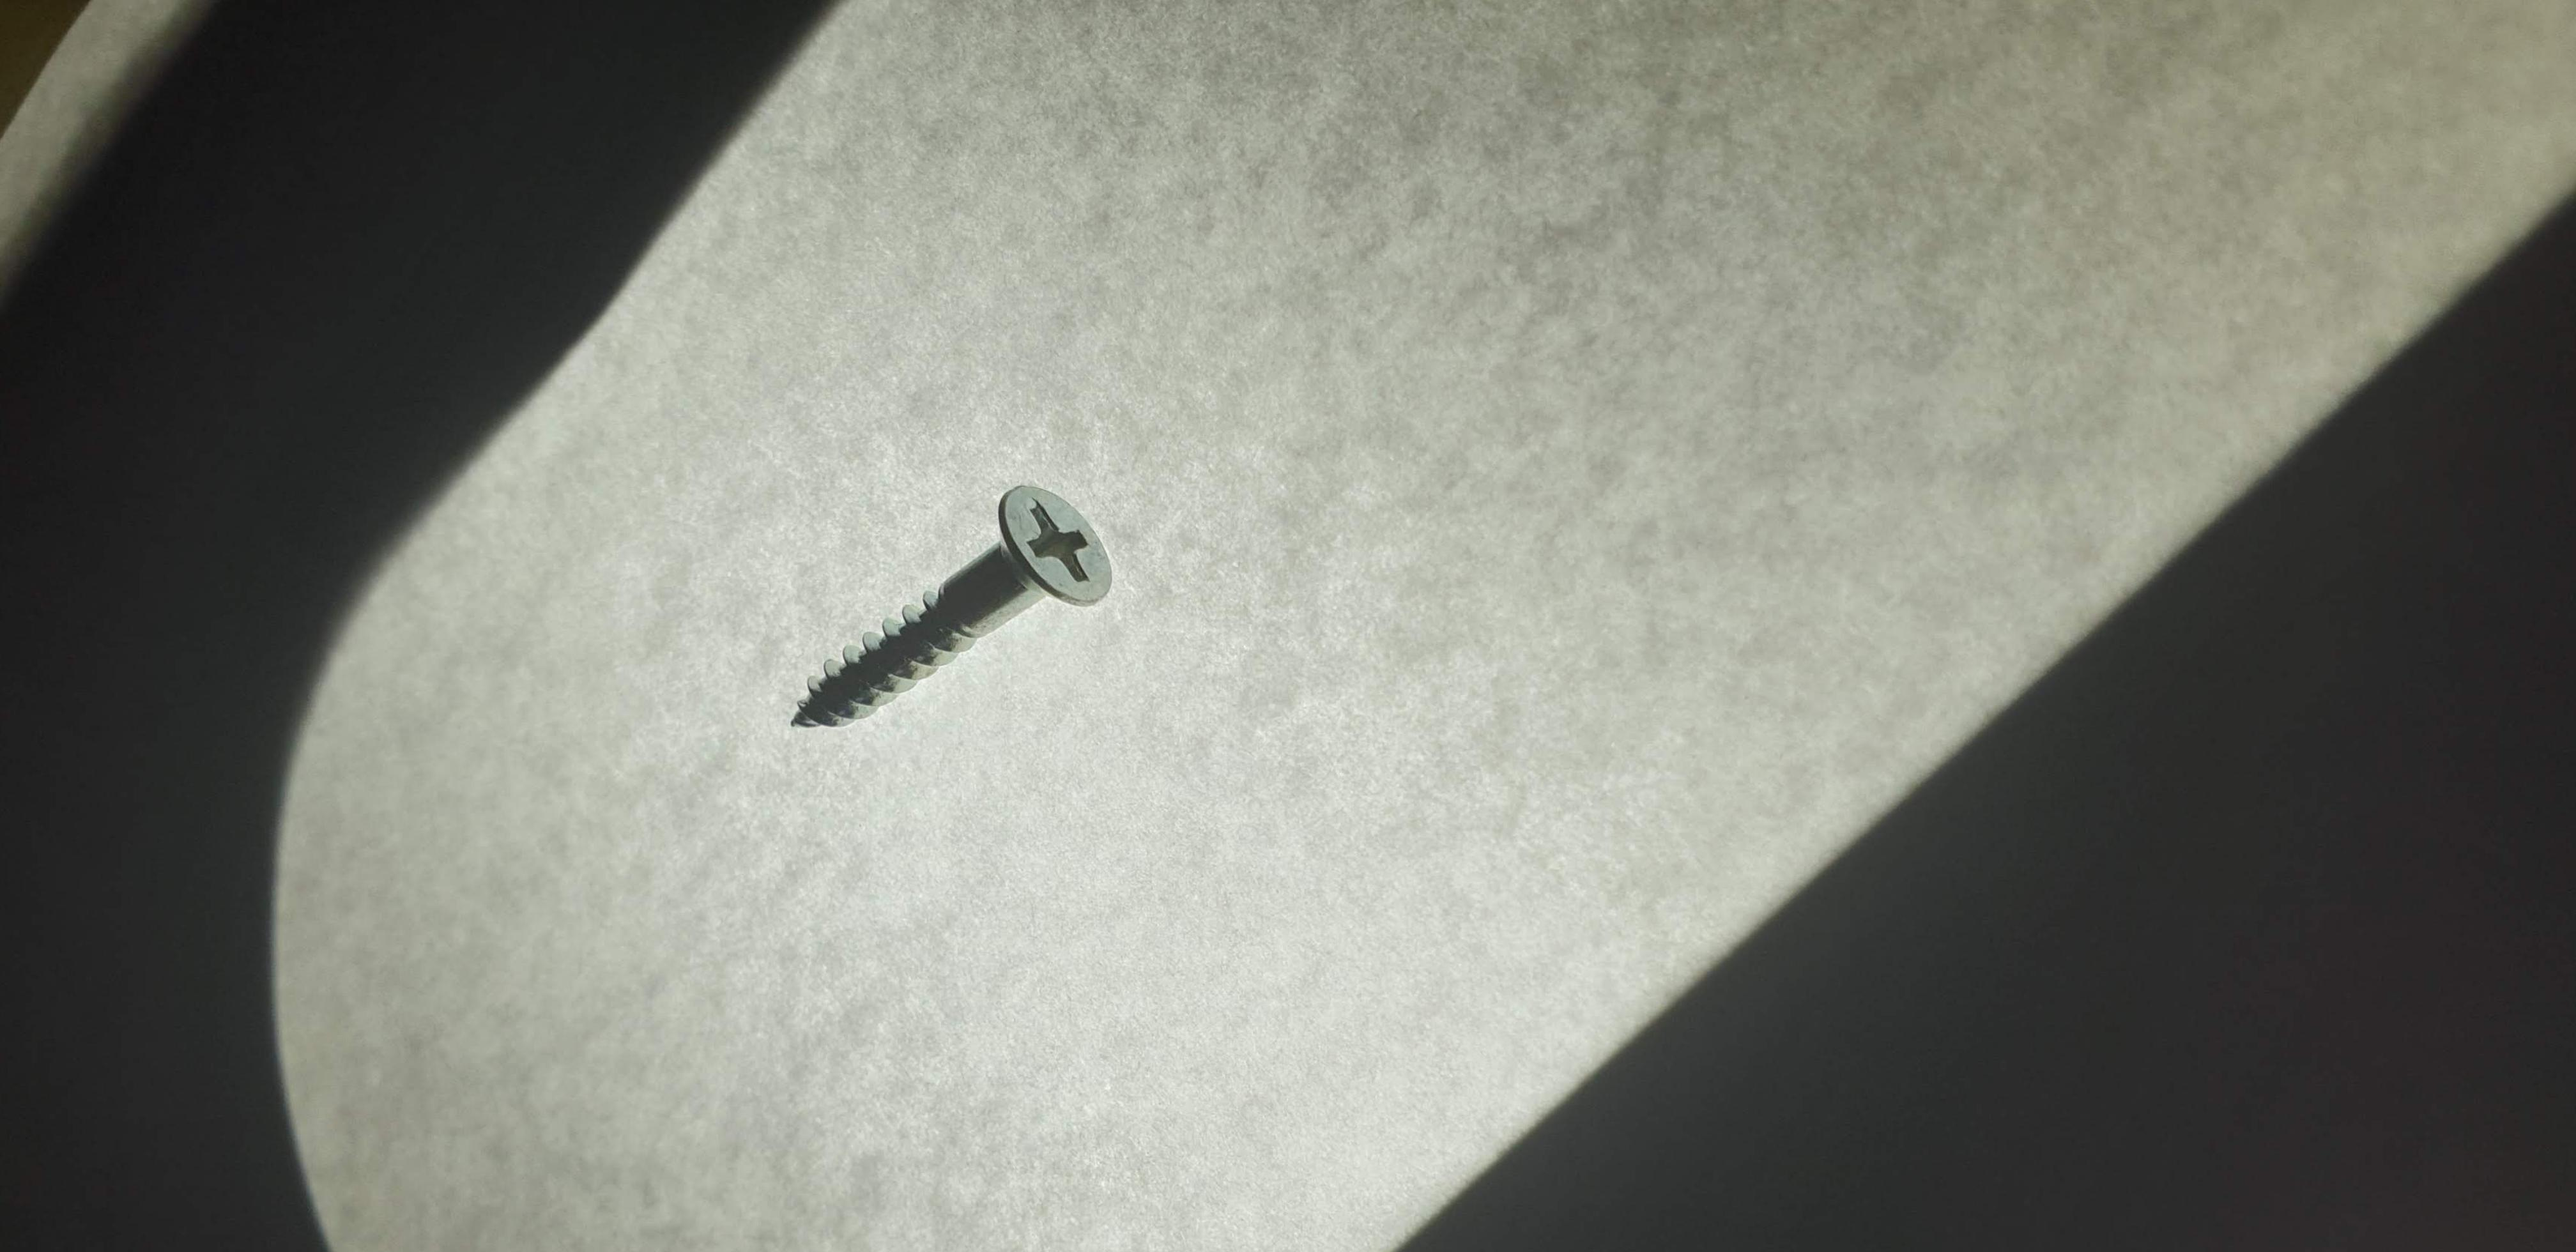S005: (718, 427, 1204, 799)
